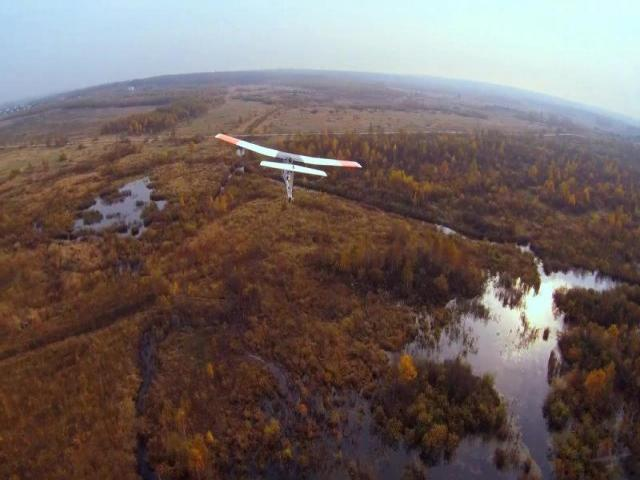hedef: (215, 126, 360, 202)
